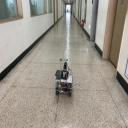cart: (54, 72, 72, 98)
